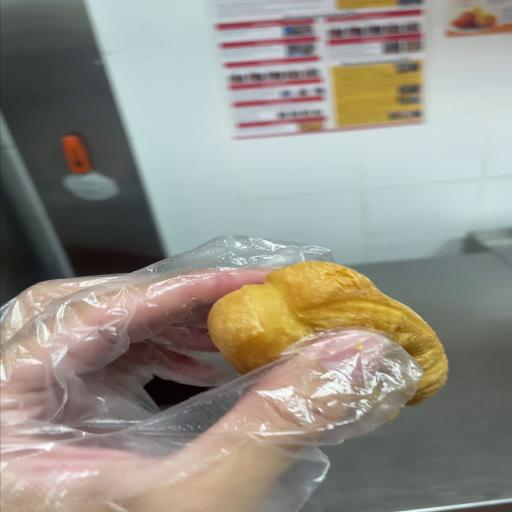brand_golden_good: (208, 261, 447, 404)
